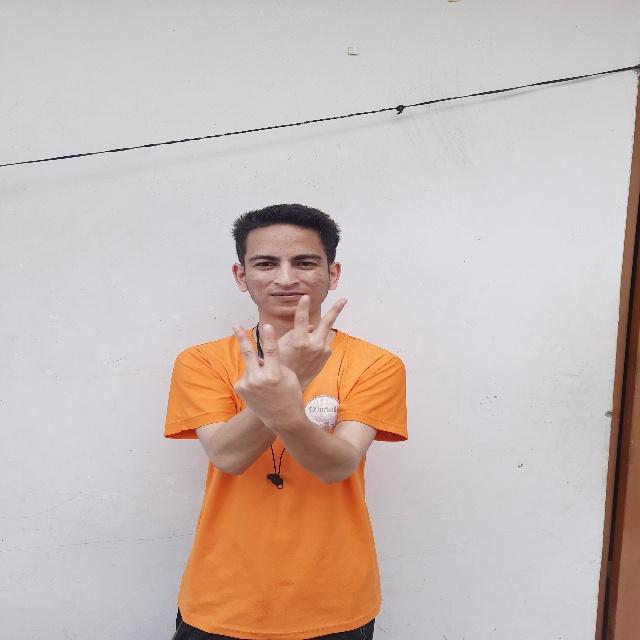Reversed Victory: (218, 313, 306, 434), (269, 277, 353, 379)
